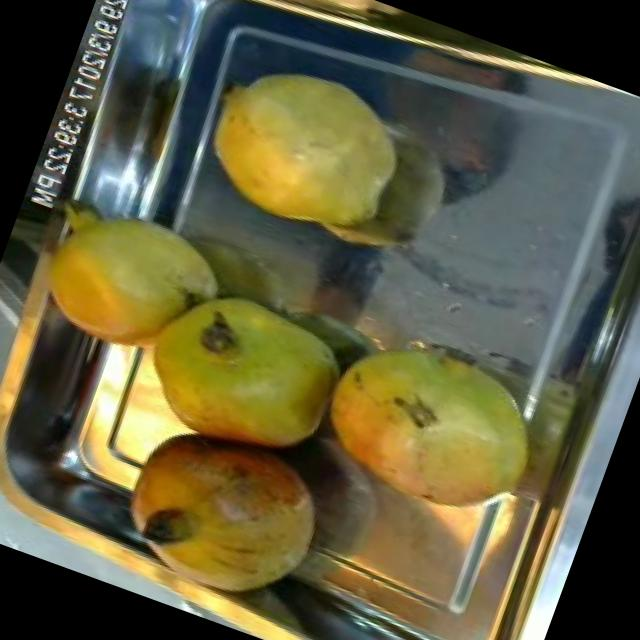fruit: (293, 298, 569, 546), (83, 396, 350, 631), (178, 36, 436, 269), (119, 260, 368, 486), (2, 174, 242, 384)
